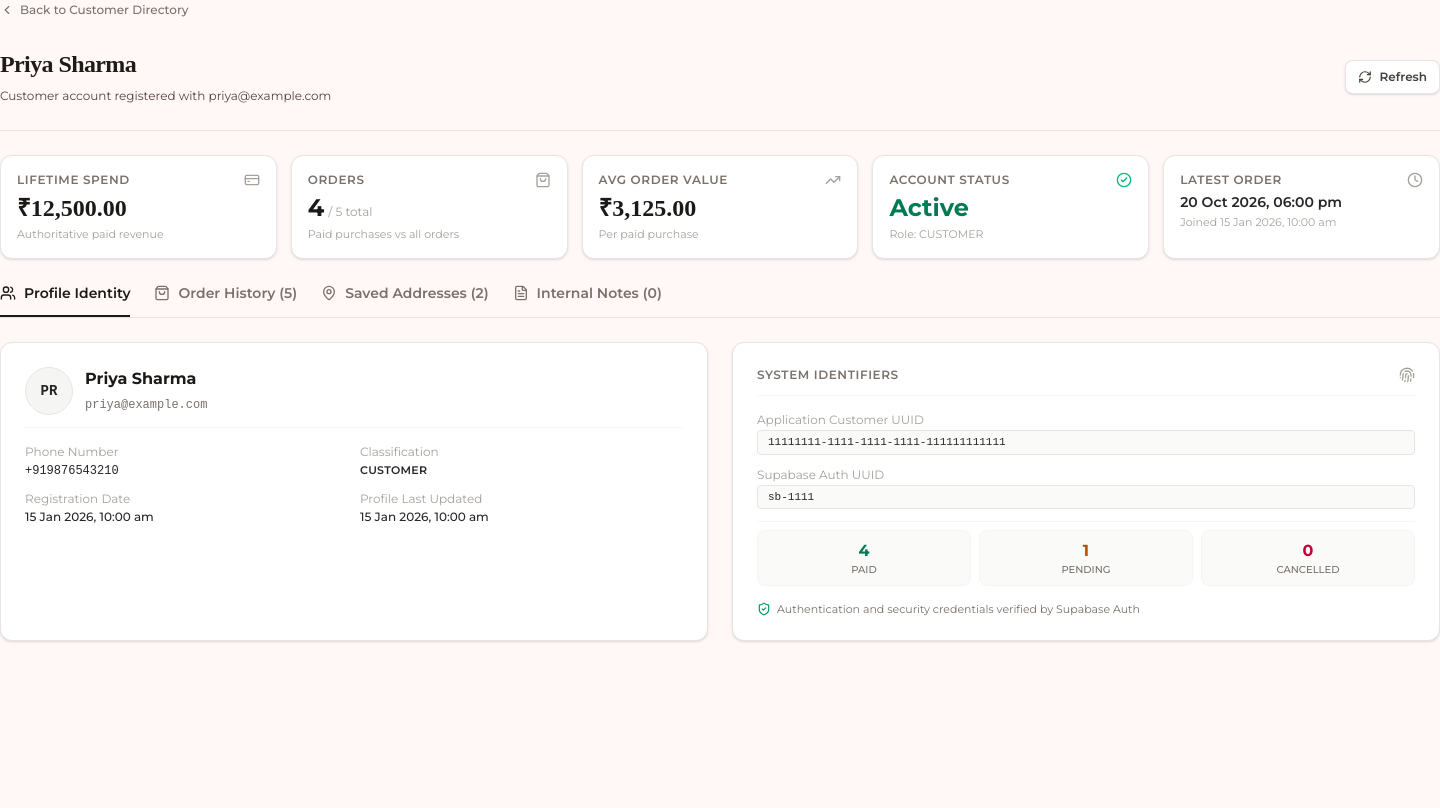
Test case: AdminCustomerDetailClient › allows staff to compose and submit an internal note, refreshing the ledger
Check: the 1st heading "Priya Sharma" is shown, box [0,51,136,77]
Click the button "Internal Notes (0)".
click(587, 300)  # box [513,283,662,317]
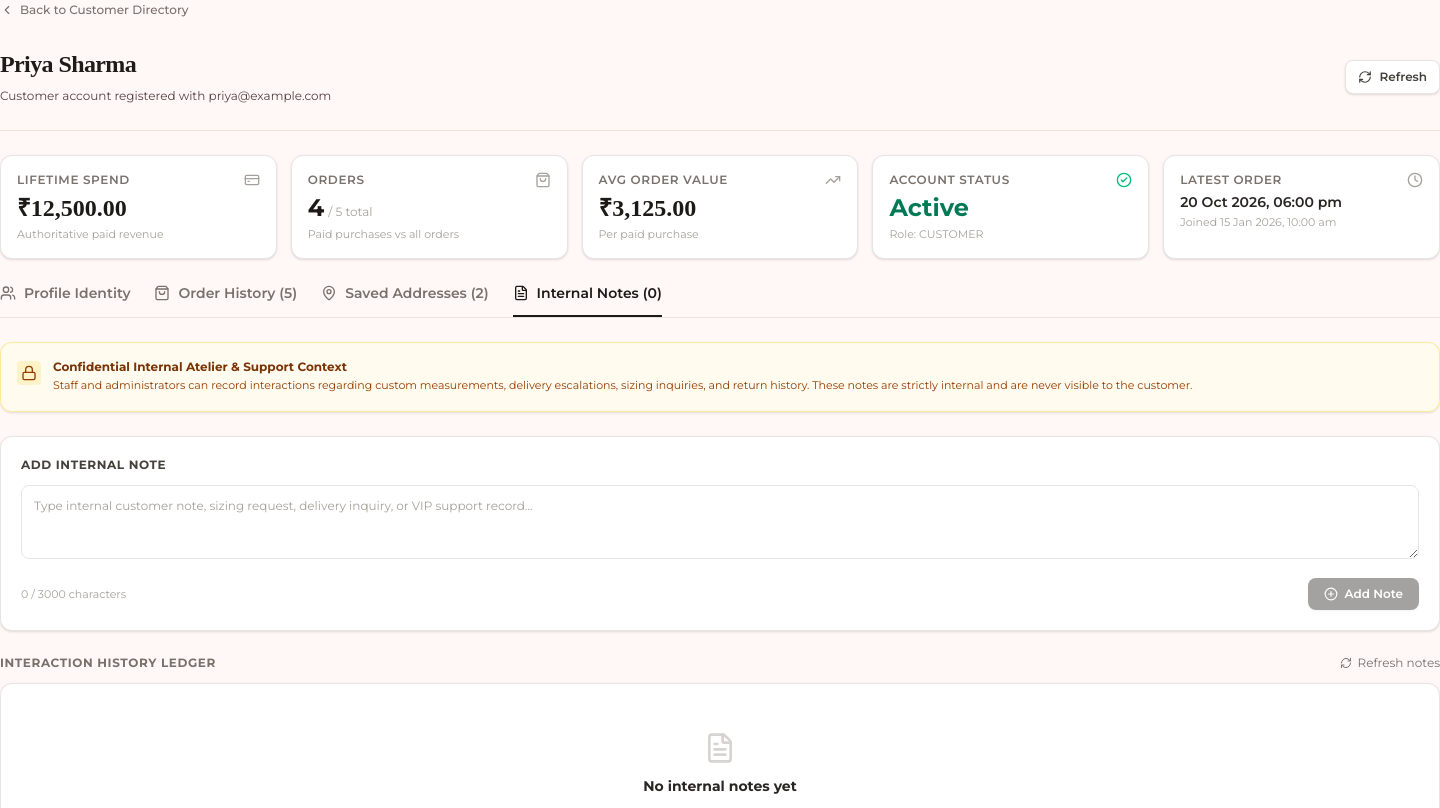
Check: the heading "No internal notes yet" is shown, box [643,777,797,795]
Check: the button "Add Note" is disabled, box [1308,578,1419,610]
Replace the text in the text box with placeholder "Type internal customer note" with "Spoke with client regarding bespoke bridal dupatta matching." at (720, 522), box [21,485,1419,559]
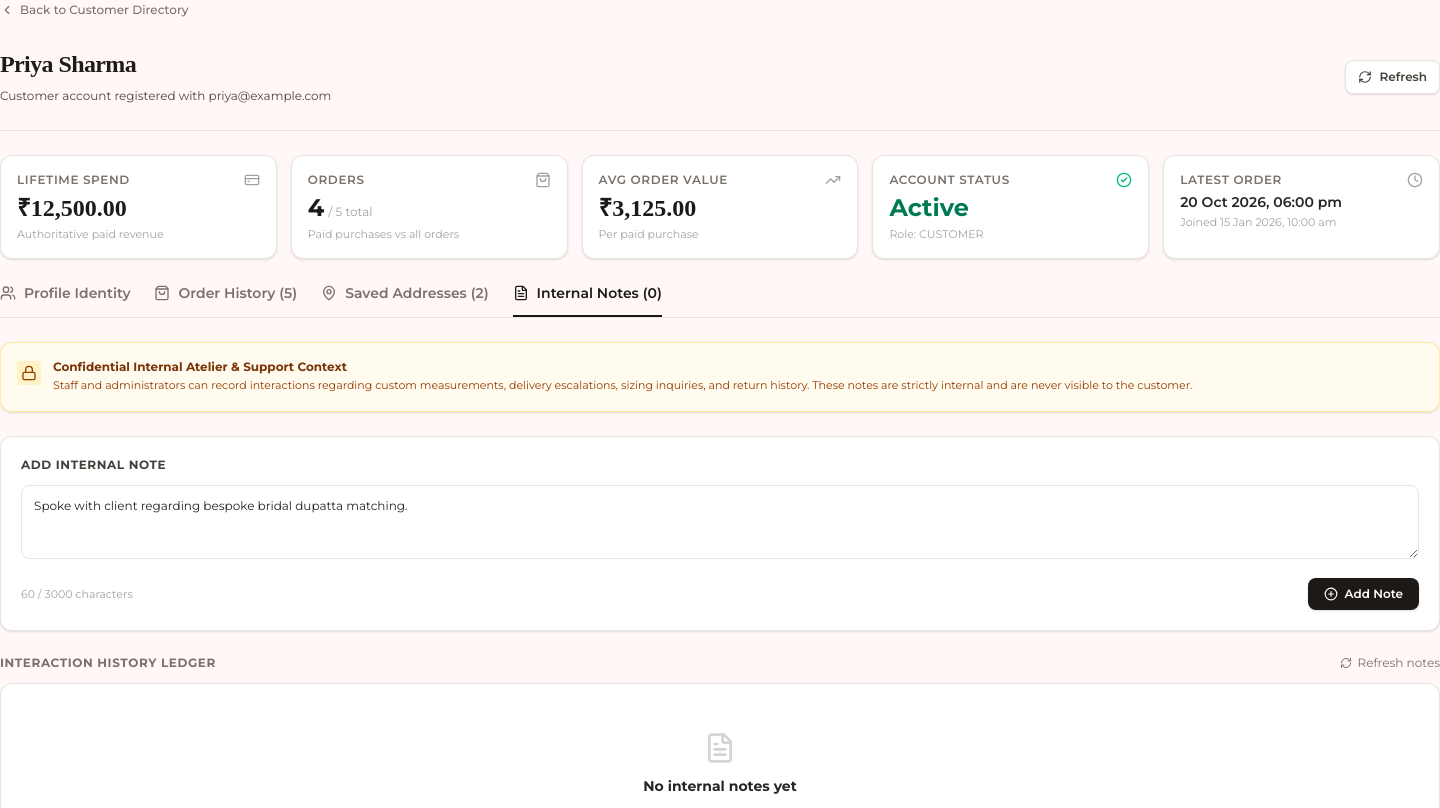
Check: the button "Add Note" is enabled
Click the button "Add Note".
click(1364, 594)  # box [1308,578,1419,610]
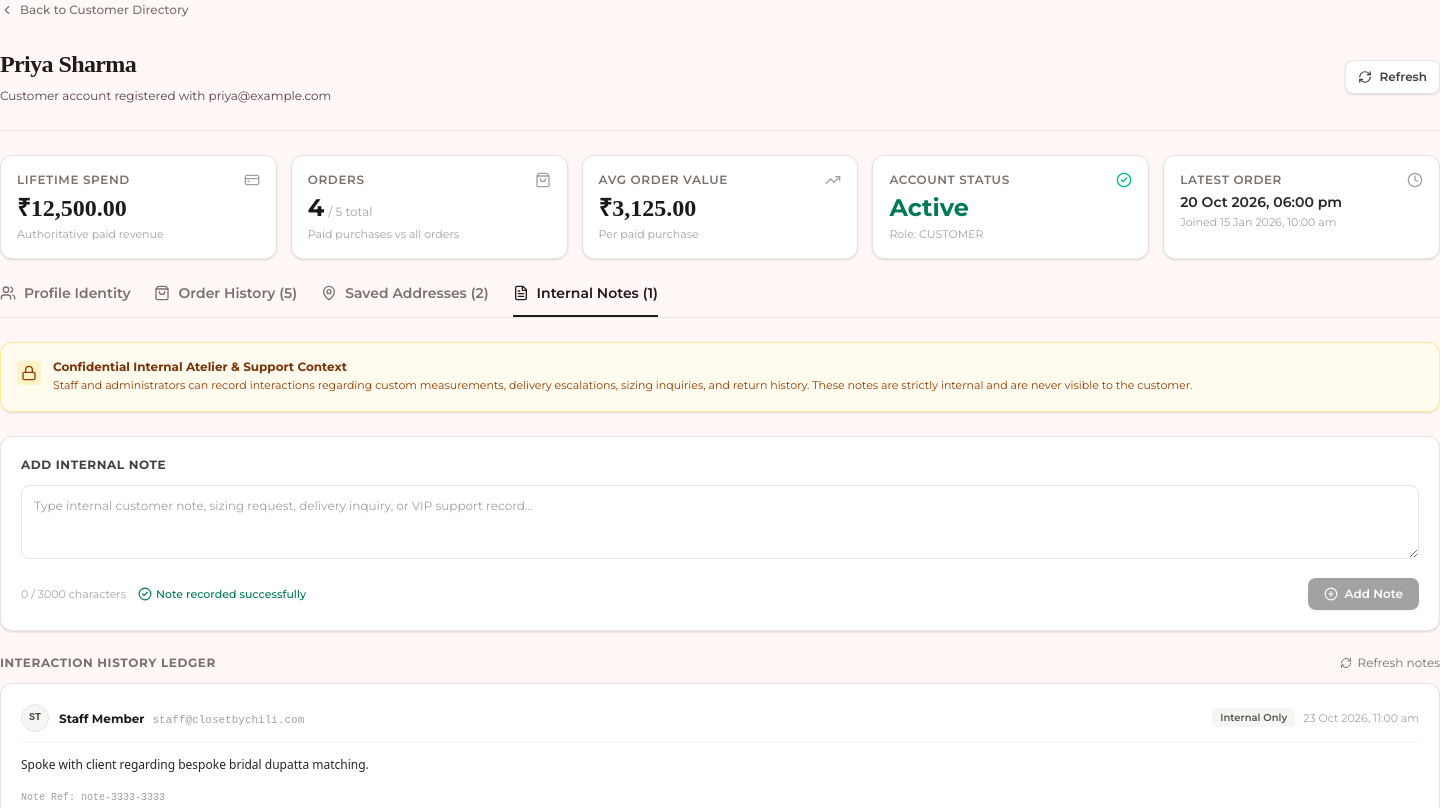
Check: the text "Spoke with client regarding bespoke bridal dupatta matching." is shown, box [21,756,369,773]
Check: the text "Staff Member" is shown, box [59,711,144,726]
Check: the text "Note recorded successfully" is shown, box [138,586,306,602]
